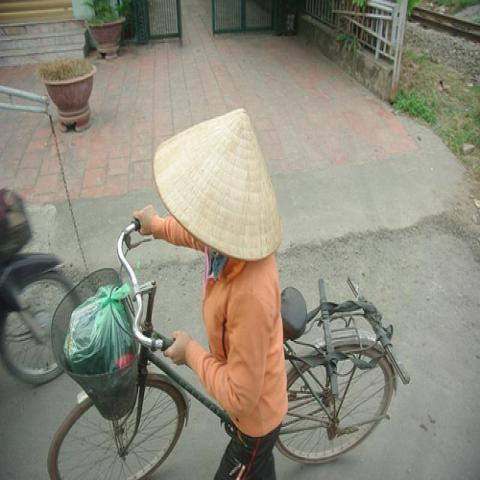motorcycle: (0, 189, 80, 382)
